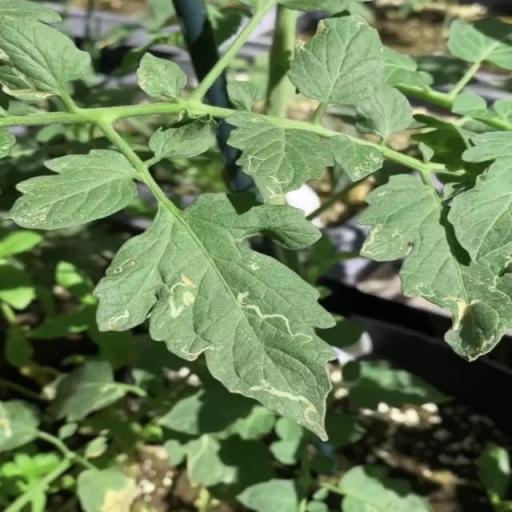disease_tomato: (94, 193, 344, 444)
